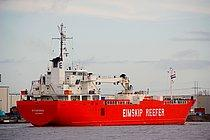Ship: (14, 20, 201, 127)
